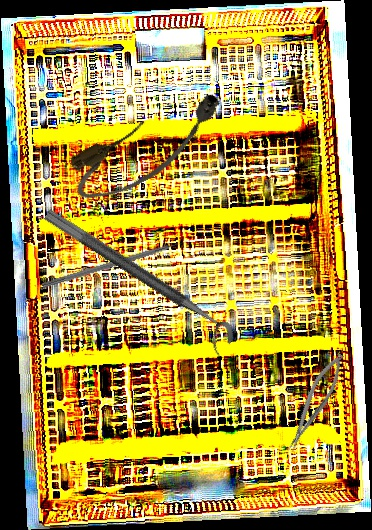Cannula: (61, 82, 238, 212)
Fixation Ring: (33, 207, 239, 358)
Hook Surgical: (41, 236, 195, 290)
Needle Holder: (278, 349, 352, 455)
